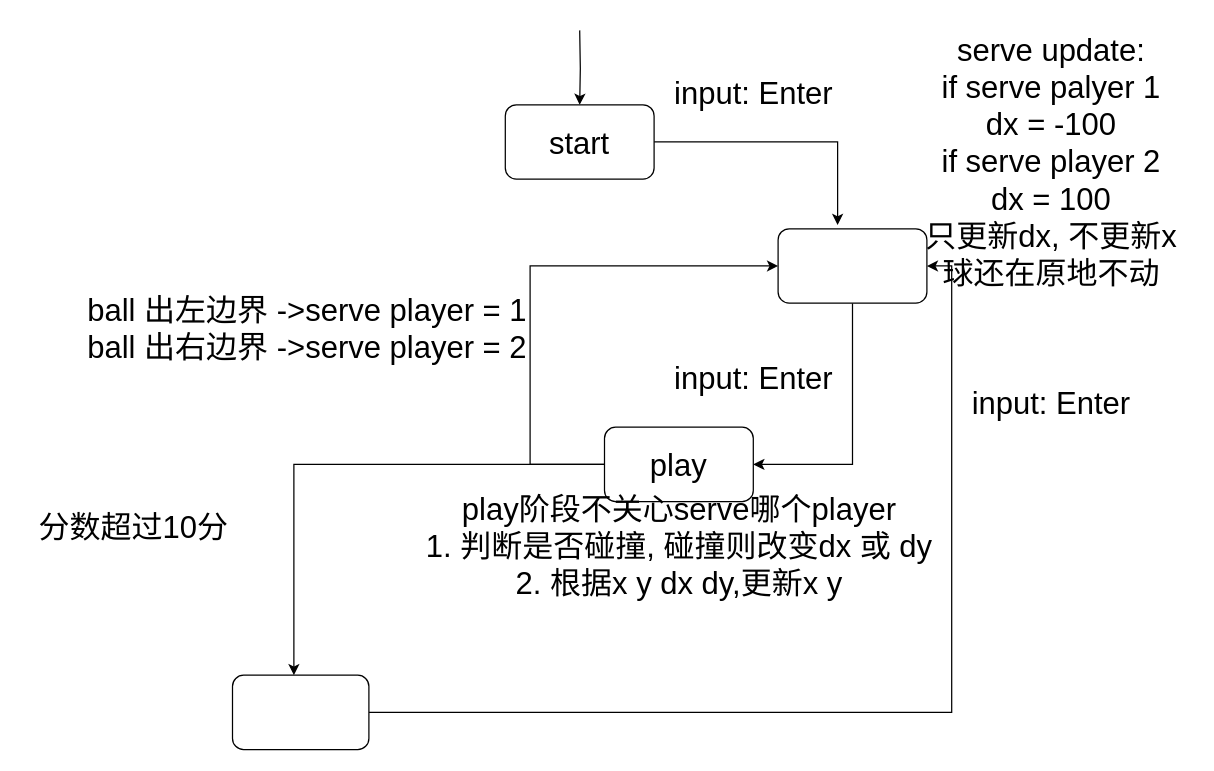
This 1214x771 diagram has some shape labels left out. The shapes that lost their labels are listed below. From the top down, each one's centre as x and y in pixels, then its label:
the point at 852,265: serve
the point at 300,712: done
